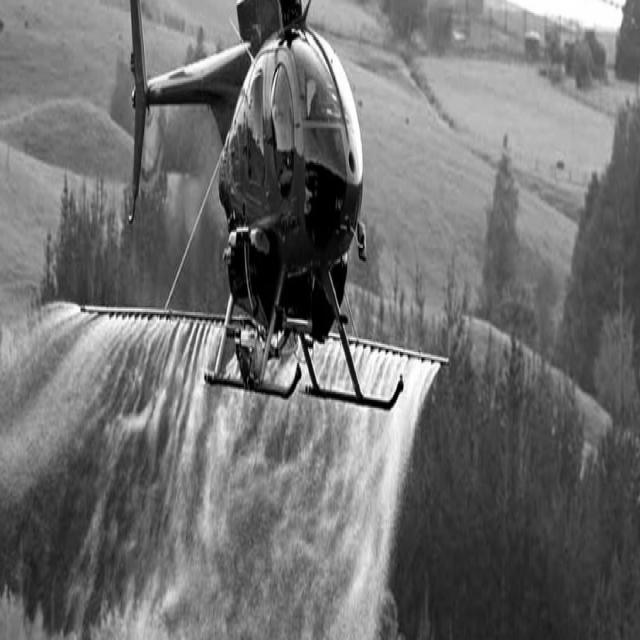helicopter: (82, 1, 419, 433)
